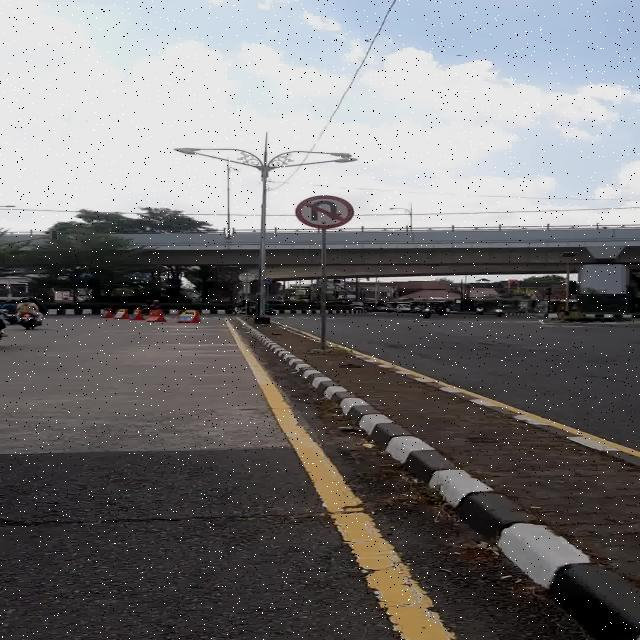Dilarang Putar Balik: (294, 194, 354, 228)
